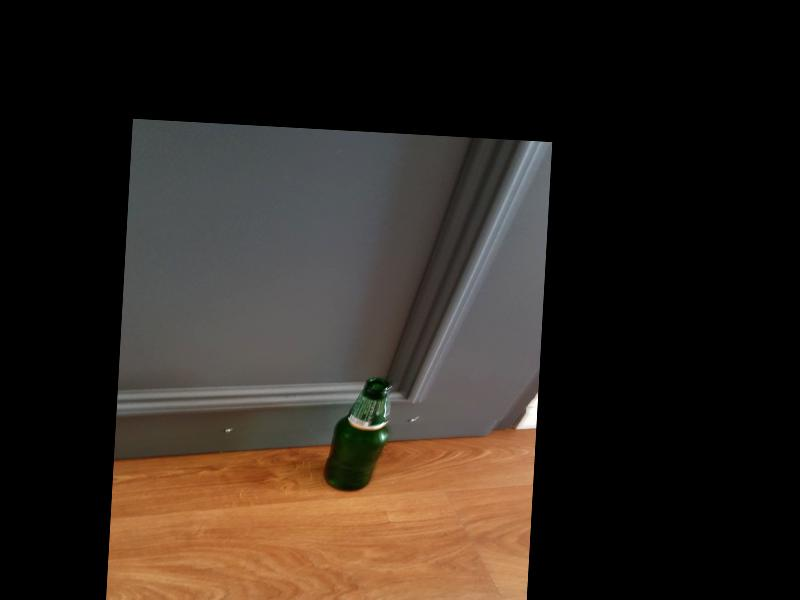Beer: (325, 377, 389, 492)
